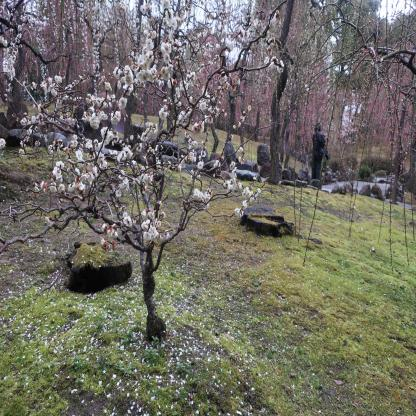Ume: (18, 0, 307, 265), (201, 0, 416, 164), (0, 0, 200, 107)
